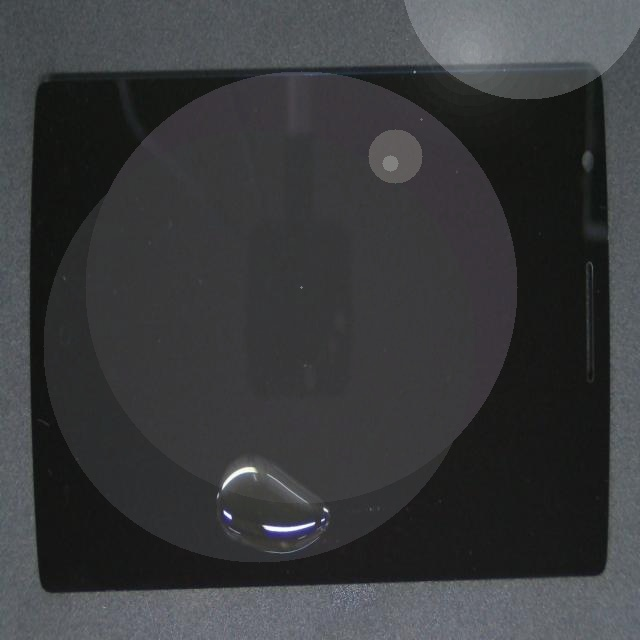oil: (208, 263, 446, 640)
